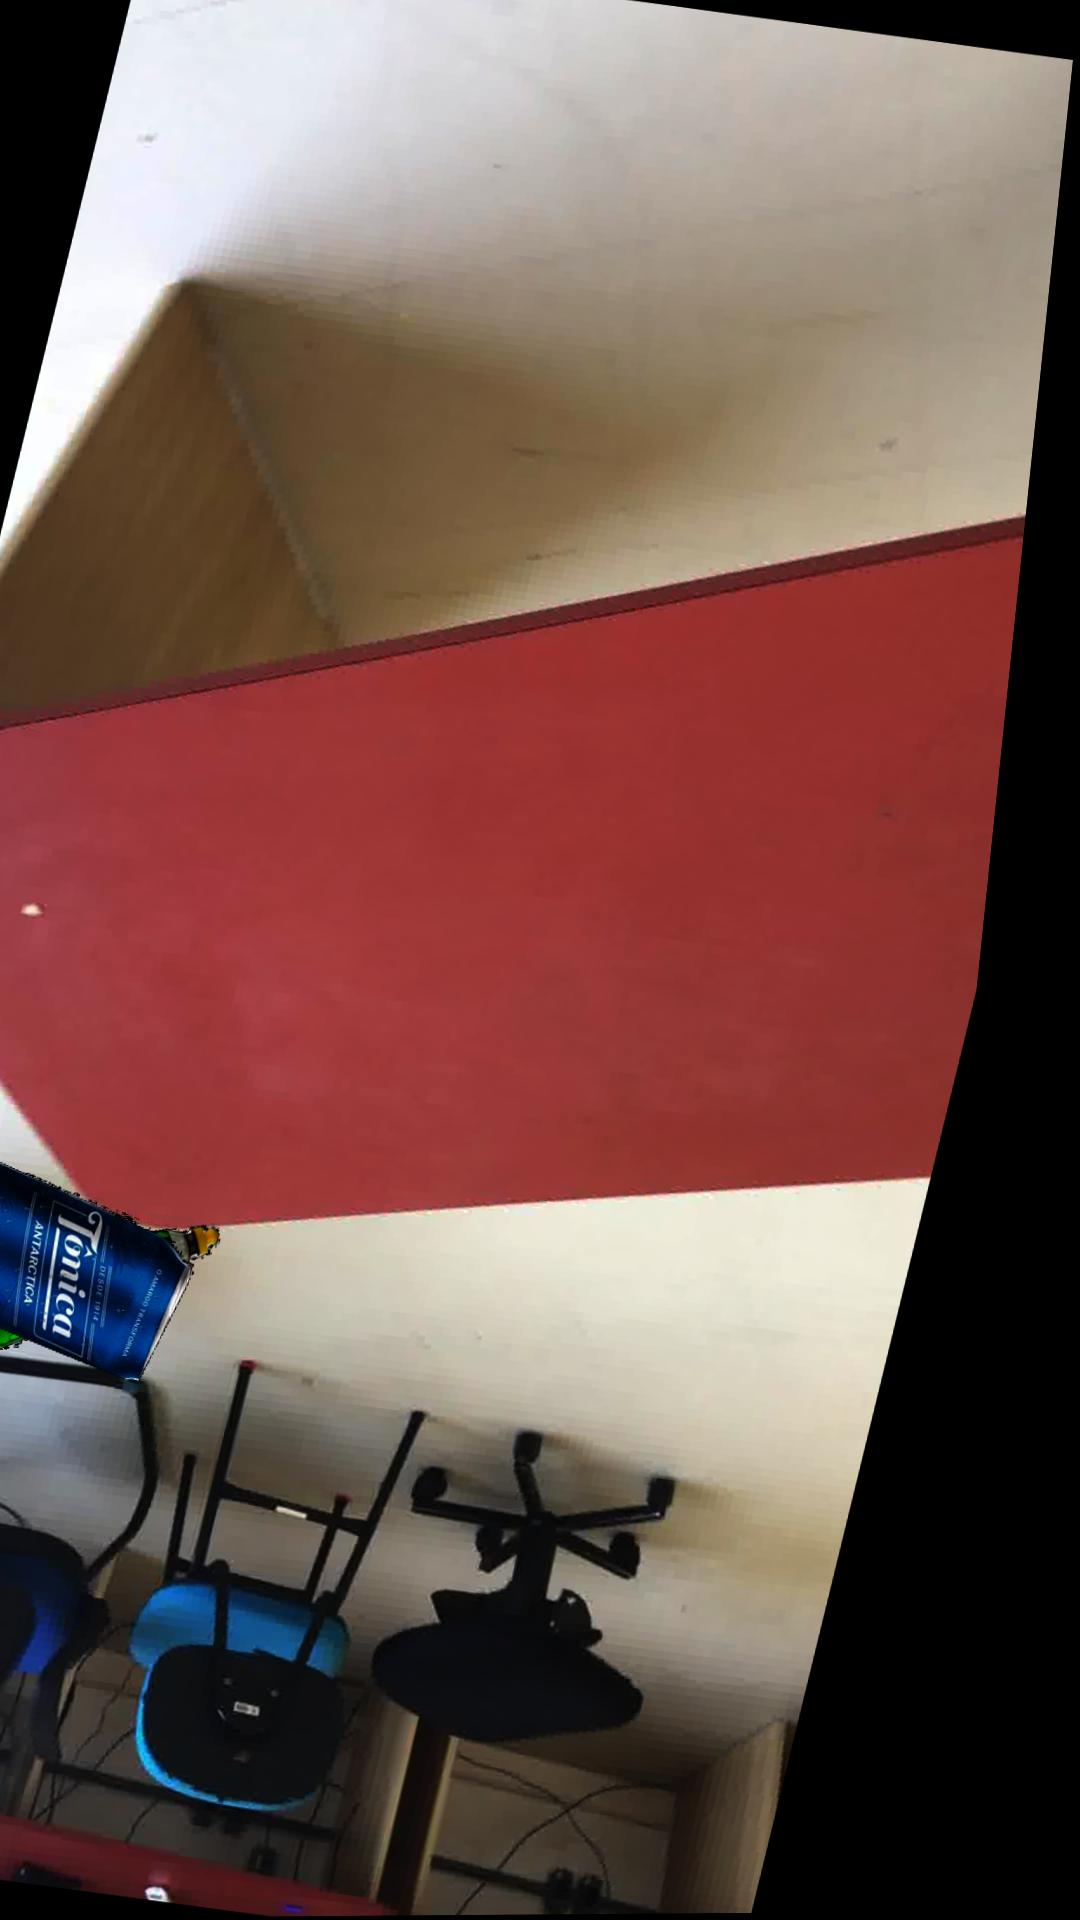cleaner: (0, 1226, 248, 1353)
tonic: (0, 1156, 222, 1382)
